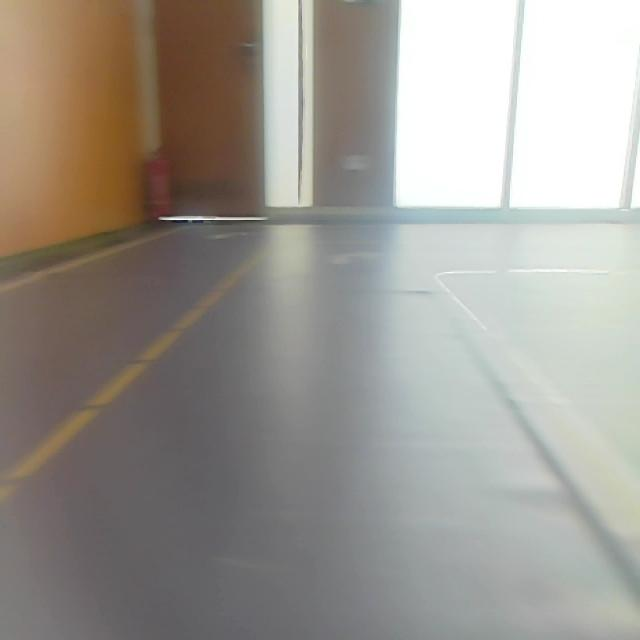left_lane: (1, 250, 266, 510)
right_lane: (438, 276, 640, 518)
